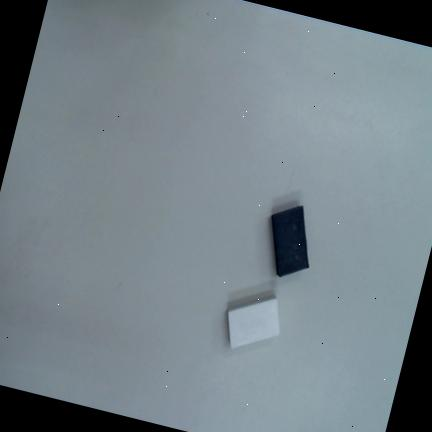Paralelepipedo: (227, 294, 279, 349), (271, 206, 309, 277)
